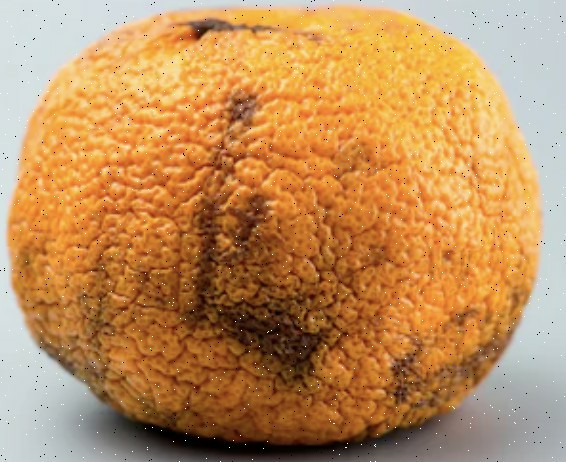rotten_orange: (9, 7, 544, 441)
